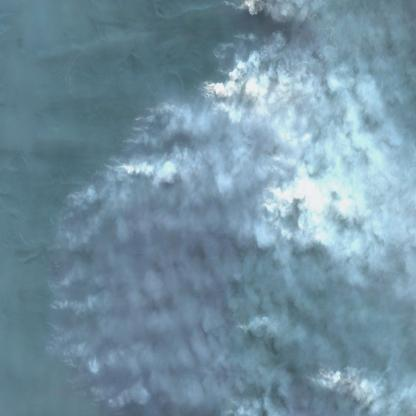fire: (199, 62, 237, 108), (103, 135, 129, 183), (233, 307, 258, 342), (309, 362, 336, 394), (223, 0, 258, 16)
